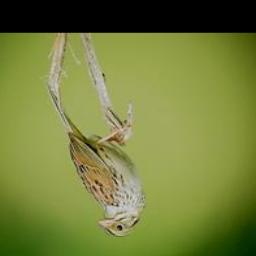Sparrow: (62, 102, 147, 241)
